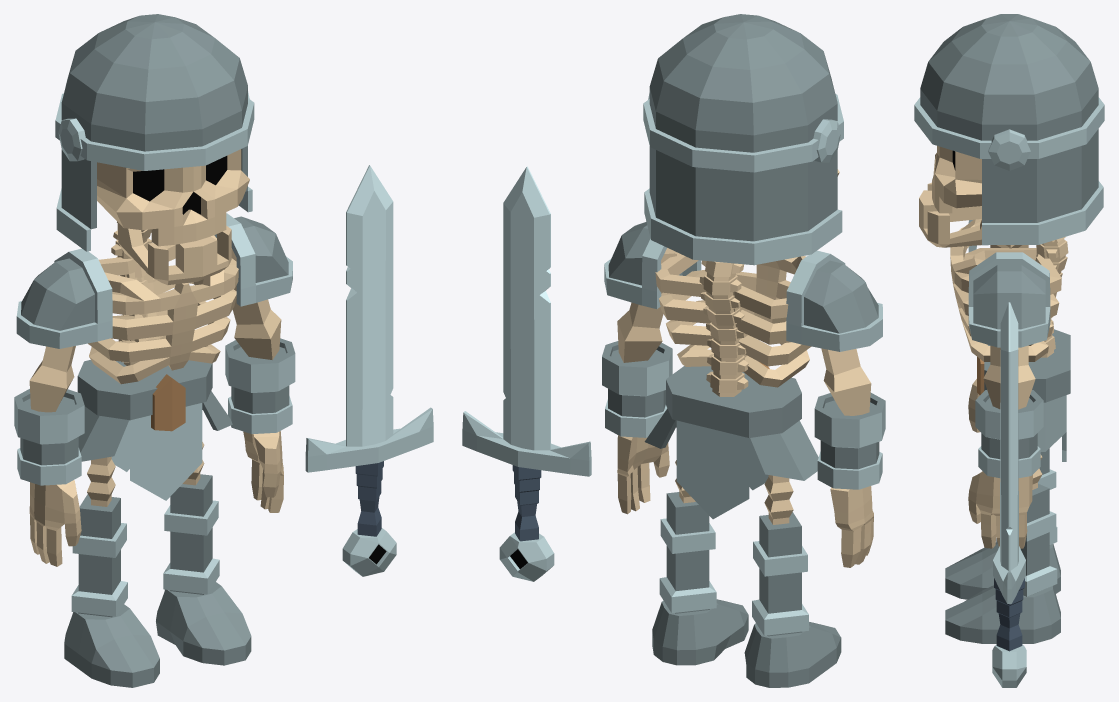
The model's file is uploads_files_5766825_SK1.fbx.
The picture shows the model from 3 angles, left to right: view 1: azimuth 30°, elevation 25°; view 2: azimuth 150°, elevation 25°; view 3: azimuth 270°, elevation 25°; orthographic projection. The views are drawn at different scales.
Parts seen in each view (by area): view 1: Sphere, Sword, Skirt, RibCage, Shoulders, Feets, forearms, Shin, Skull, Hands, Arms & Legs, Jaw (+1 smaller); view 2: Sphere, Sword, Skirt, Shoulders, Shin, forearms, RibCage, Feets, Arms & Legs, Hands, Spine; view 3: Sphere, Sword, Shoulders, Feets, Skirt, forearms, Shin, RibCage, Hands, Skull, Jaw, Arms & Legs (+1 smaller).
Part boxes in pixels (x1,y1,x2,y2): Sphere: (55, 14, 254, 251); Sword: (305, 165, 433, 576); Skirt: (77, 360, 232, 500); RibCage: (88, 244, 238, 384); Shoulders: (16, 213, 292, 348); Feets: (64, 582, 251, 687); forearms: (14, 338, 295, 485); Shin: (71, 474, 219, 617); Skull: (97, 149, 249, 246); Hands: (29, 431, 283, 566); Arms & Legs: (29, 248, 281, 506); Jaw: (117, 222, 231, 284); Sphere: (643, 14, 843, 265); Sword: (462, 166, 591, 581); Skirt: (644, 362, 818, 519); Shoulders: (604, 222, 882, 351); Shin: (659, 492, 808, 636); forearms: (602, 341, 885, 489); RibCage: (655, 248, 811, 387); Feets: (652, 599, 841, 687); Arms & Legs: (617, 253, 871, 524); Hands: (617, 435, 873, 567); Spine: (699, 260, 748, 396); Sphere: (914, 14, 1104, 245); Sword: (992, 302, 1026, 687); Shoulders: (968, 220, 1050, 347); Feets: (945, 542, 1060, 643); Skirt: (977, 329, 1070, 461); forearms: (975, 390, 1043, 477); Shin: (996, 448, 1057, 596); RibCage: (950, 219, 1061, 361); Hands: (968, 379, 1032, 548); Skull: (932, 146, 981, 213); Jaw: (919, 182, 981, 247); Arms & Legs: (983, 245, 1042, 489).
Bounding box in the file's own units: 180 × 260 × 76.43.
